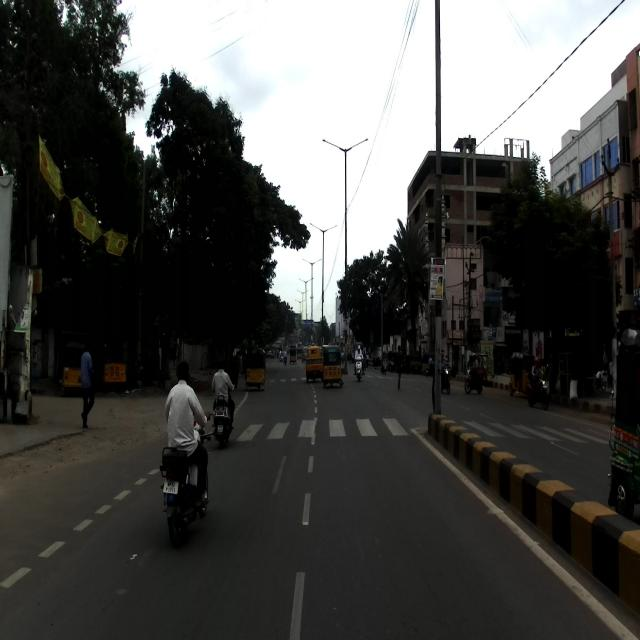motorcycle: (158, 412, 212, 549)
scooter: (211, 385, 236, 449)
